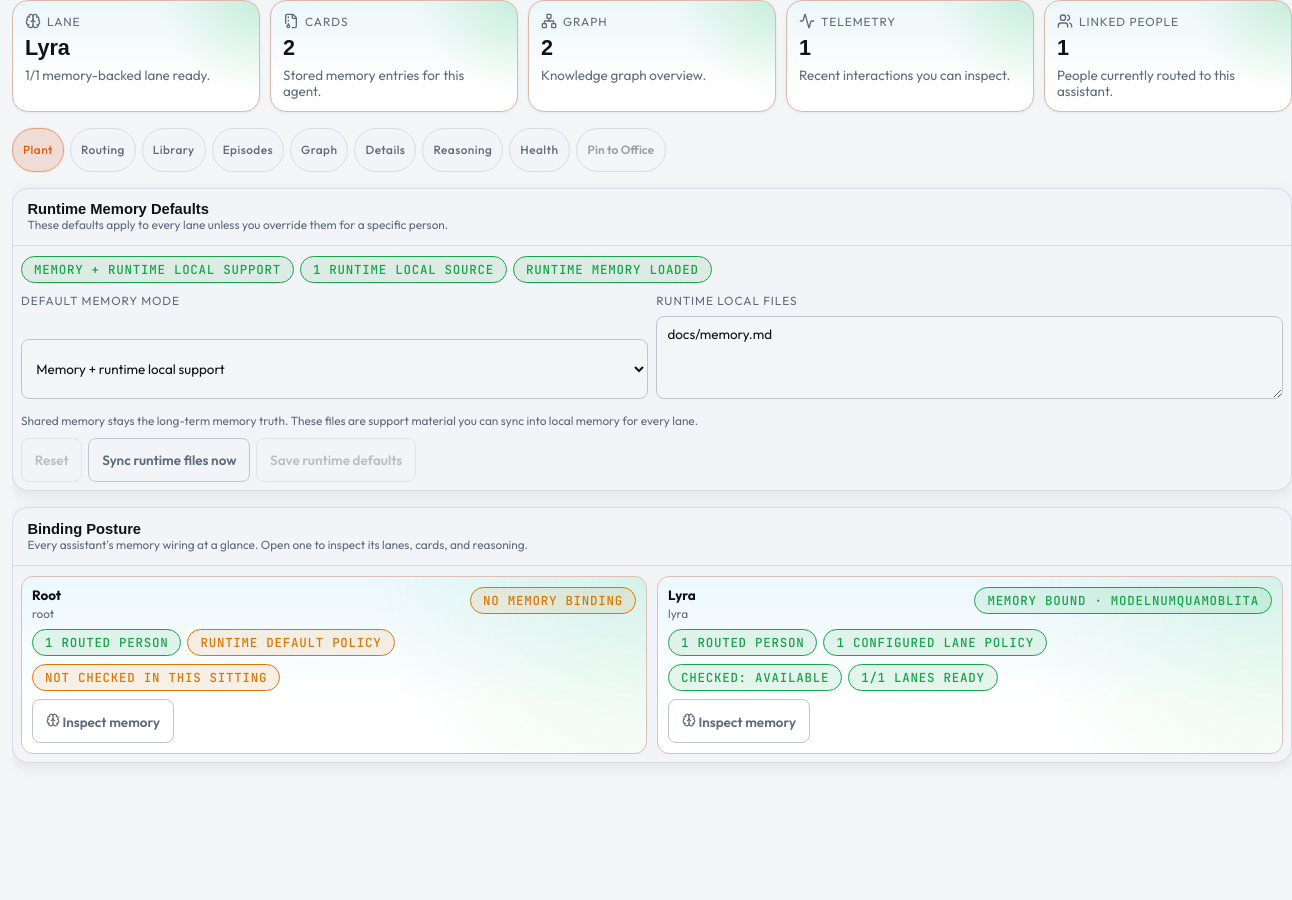
Test case: MemoryPage landing intent seam › keeps internal section choices across unrelated rerenders
Click the button "Episodes": (248, 150) [212, 128, 284, 172]
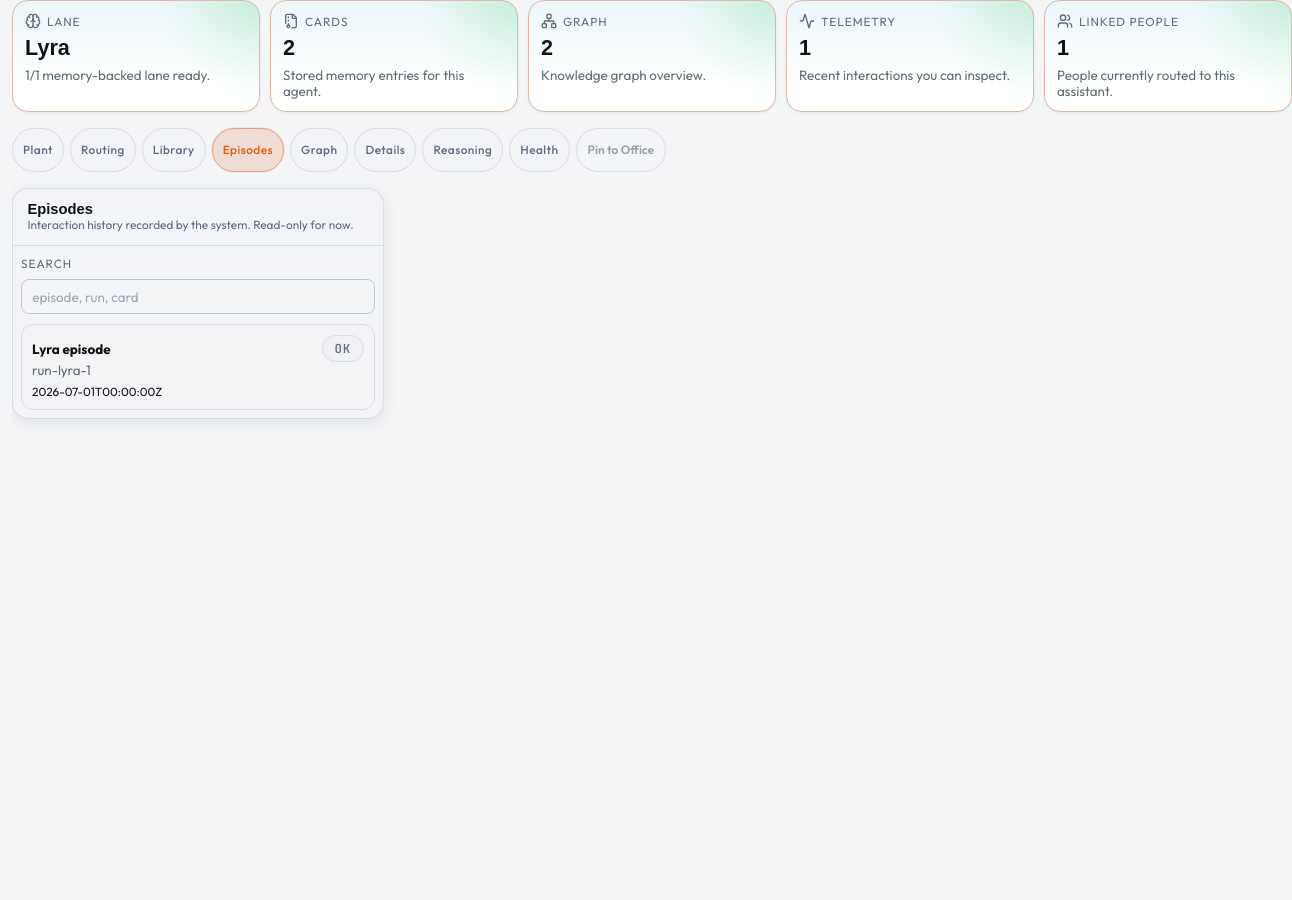
Expected: the text "Lyra episode" is shown, [32, 341, 110, 357]
Expected: the text "Binding Posture" is gone
